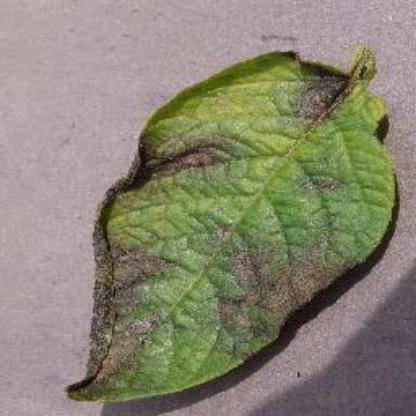Late-Blight: (44, 41, 398, 408)
